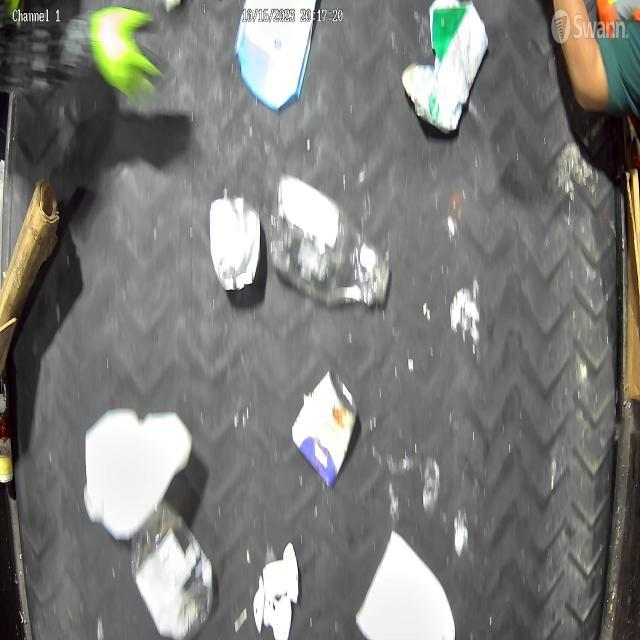can: (290, 367, 360, 487)
milk_jug: (82, 404, 194, 542)
plastic_bottle: (268, 172, 391, 310)
